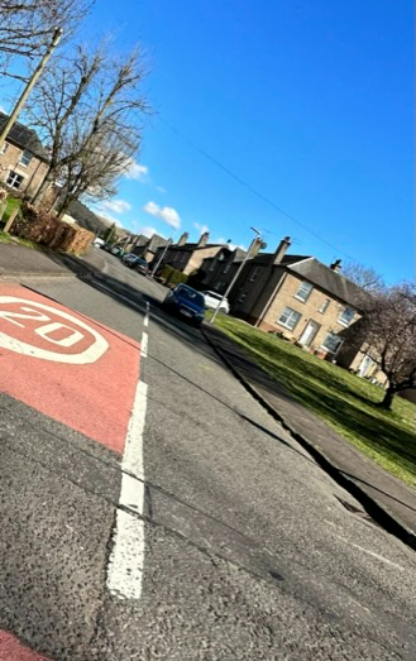car: (162, 281, 209, 328), (200, 284, 238, 313), (127, 247, 154, 277)
tree: (6, 50, 128, 214), (347, 265, 416, 419), (66, 125, 166, 215)
